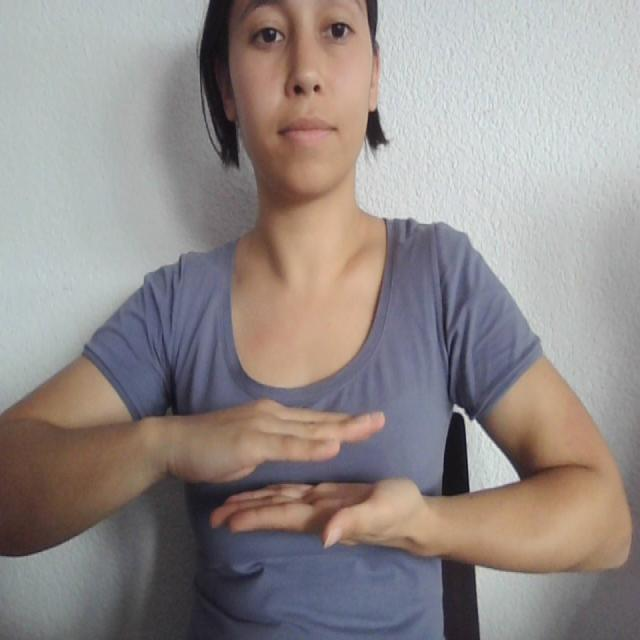Arkadas: (122, 387, 497, 562)
